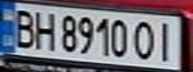0: (109, 16, 130, 58)
1: (93, 15, 112, 56)
8: (57, 11, 78, 53)
9: (75, 13, 96, 55)
B: (9, 6, 39, 49)
H: (30, 8, 57, 51)
I: (151, 18, 181, 63)
O: (130, 18, 160, 61)
